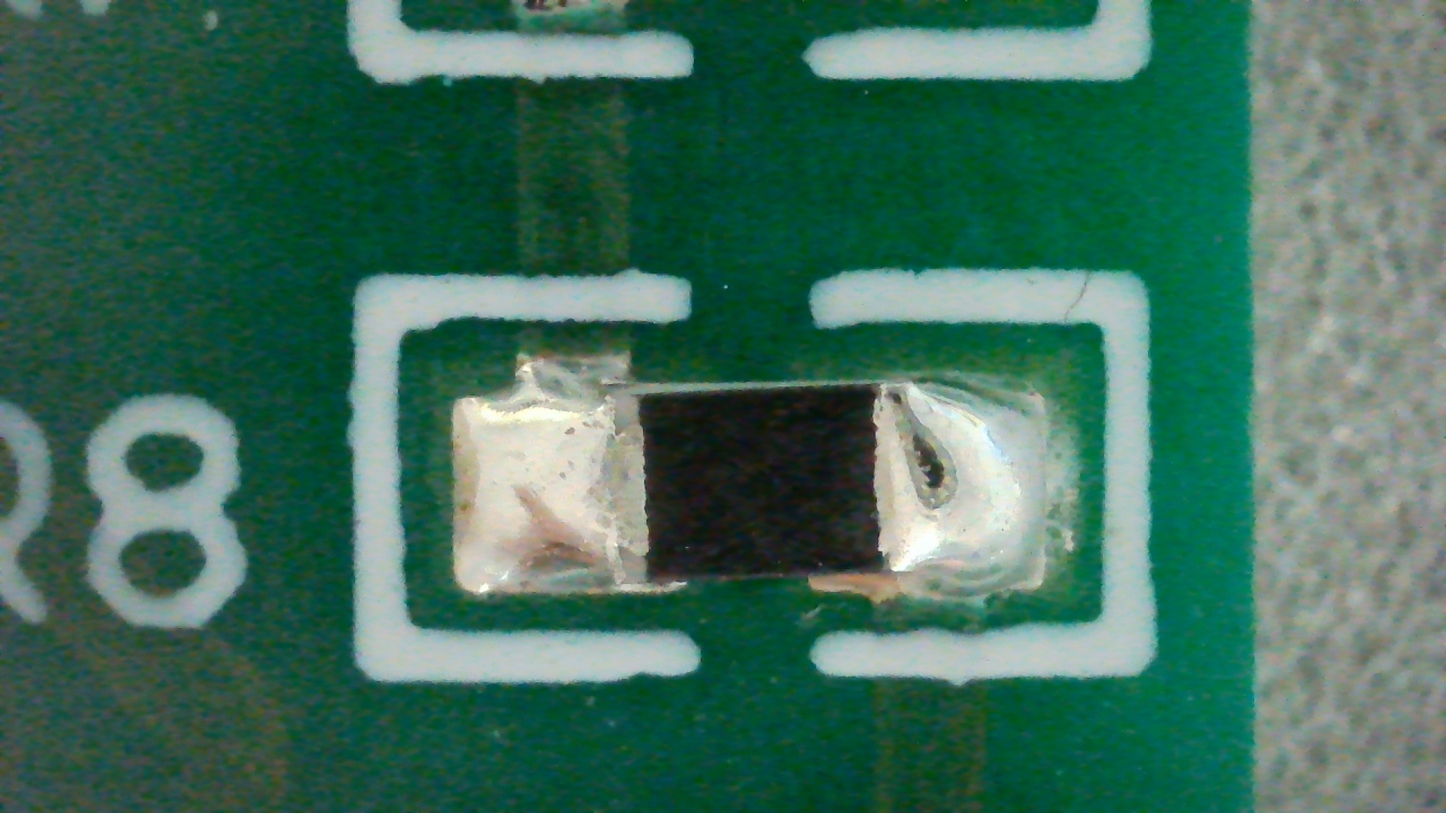OK: (455, 358, 1049, 603)
